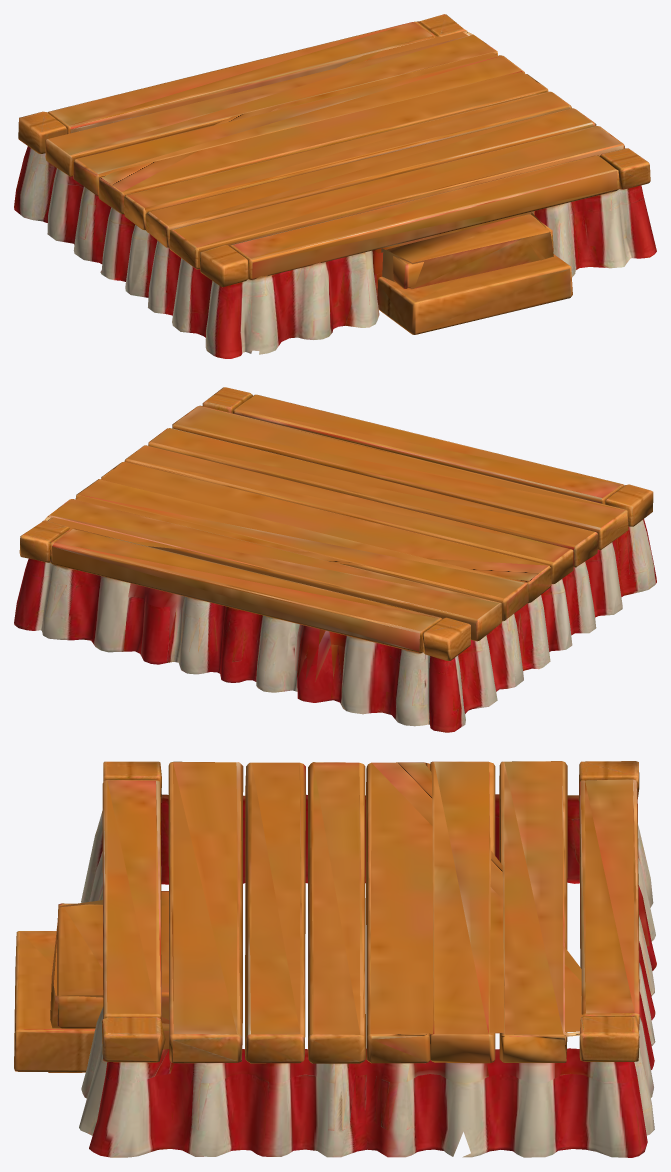
File: stage.glb
3 renders of one model, top to bottom at view 1: azimuth 30°, elevation 25°; view 2: azimuth 150°, elevation 25°; view 3: azimuth 270°, elevation 25°, orthographic. The views are drawn at different scales.
Size of the model in its own units: 1 by 0.1995 by 0.9627.
1 material, 1 textured.
